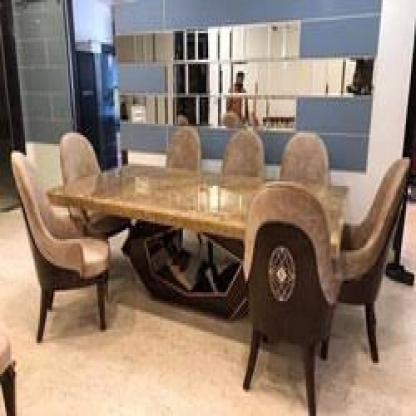Dining Table: (11, 82, 416, 403)
